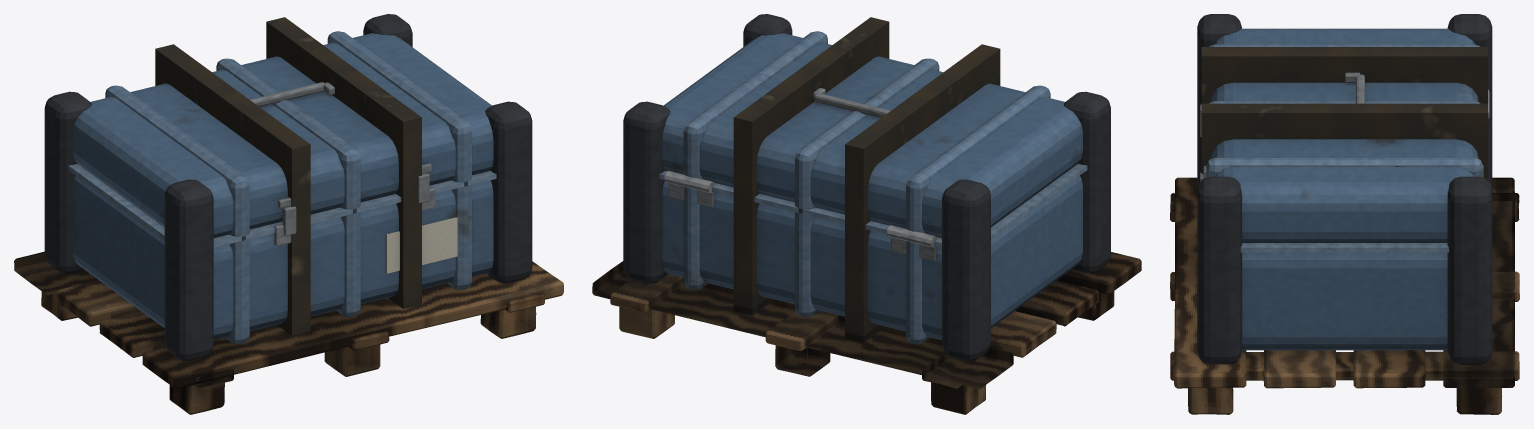
File: poi_armor_box.glb
The picture shows the model from 3 angles, left to right: view 1: azimuth 30°, elevation 25°; view 2: azimuth 150°, elevation 25°; view 3: azimuth 270°, elevation 25°; orthographic projection. The views are drawn at different scales.
Visible parts, largest first — view 1: poi_armor_box; view 2: poi_armor_box; view 3: poi_armor_box.
Part boxes in pixels (bbox=[...]): poi_armor_box: bbox=[14, 14, 563, 414]; poi_armor_box: bbox=[592, 14, 1141, 414]; poi_armor_box: bbox=[1170, 14, 1519, 414].
Size of the model in its own units: 1.05 by 0.6113 by 0.7819.
6 materials, 6 textured.
